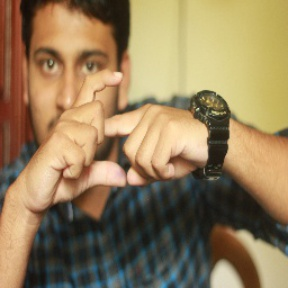E: (48, 68, 149, 198)
